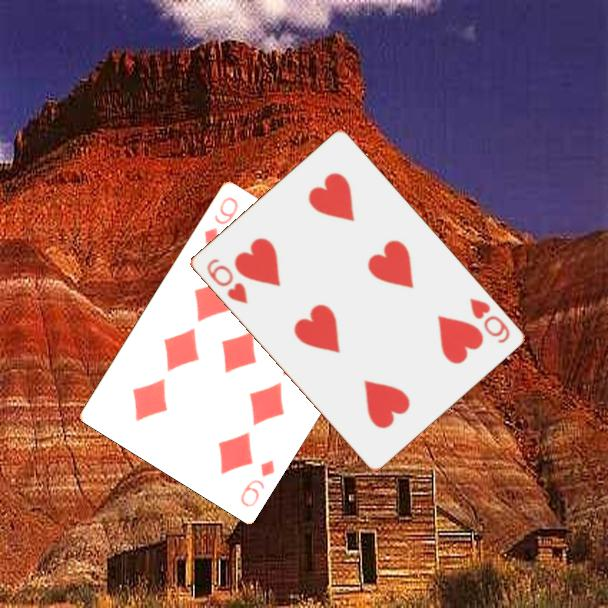d09: (236, 456, 278, 510), (201, 193, 241, 247)
h06: (202, 255, 250, 307), (466, 294, 512, 346)
